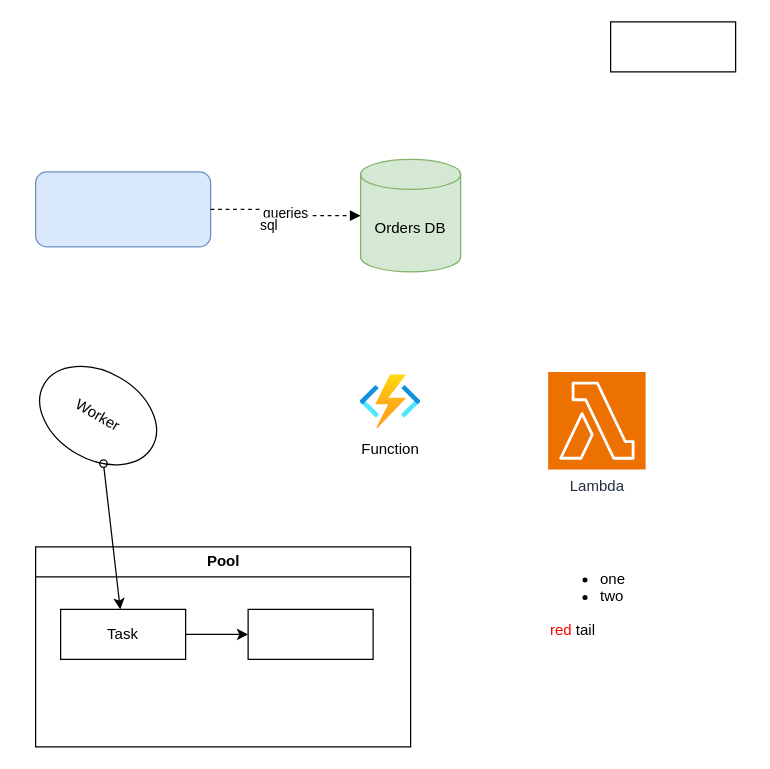
Some shapes in this 770 by 769 pixel diagram are drawn without their labels. The shapes that lost their labels are listed below. From the top down, each one's centre as x and y in pixels, then its label:
At (x=672, y=46): "Above page".
At (x=122, y=209): "API Gateway".
At (x=310, y=633): "Step 2".
